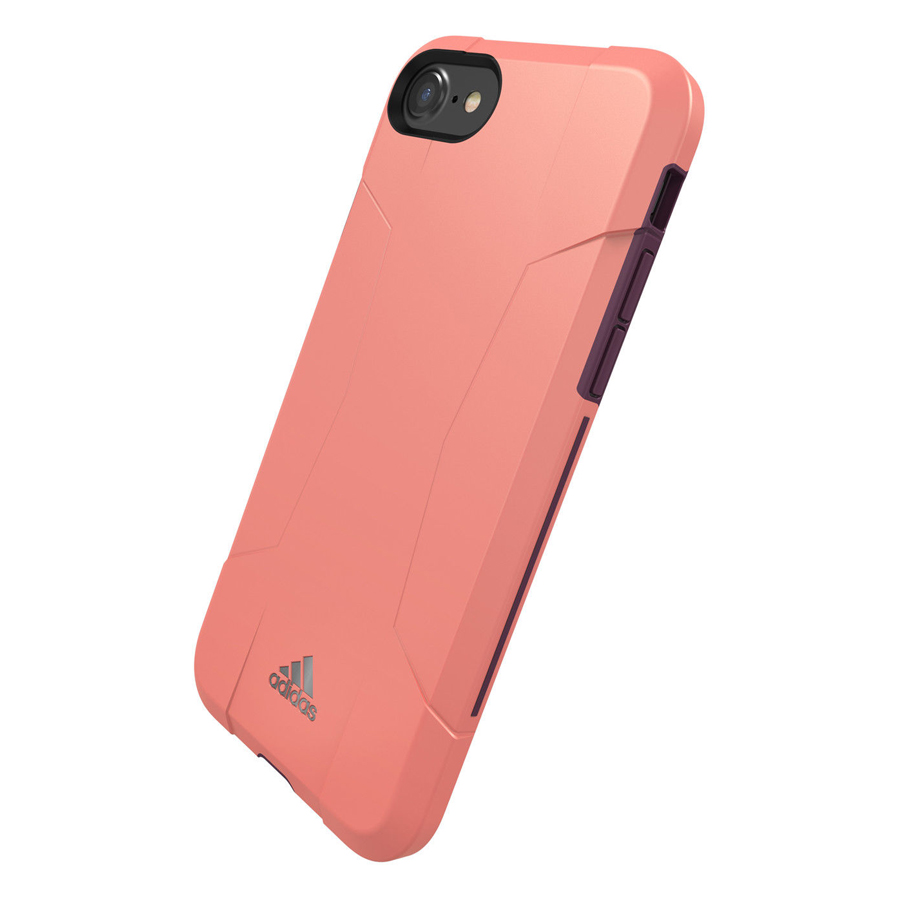Adidas: (263, 645, 327, 726)
